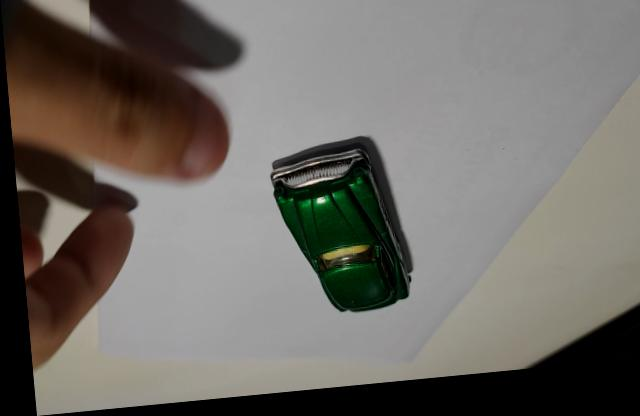06_MASERATI: (266, 143, 409, 319)
